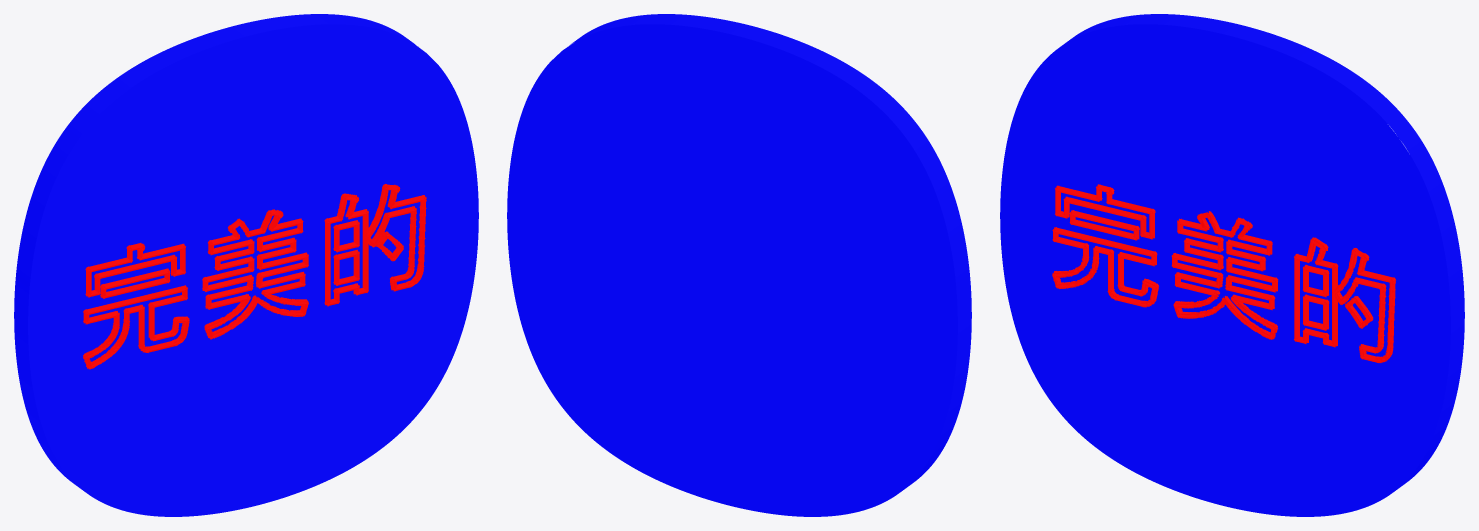
The picture shows the model from 3 angles, left to right: view 1: azimuth 30°, elevation 25°; view 2: azimuth 150°, elevation 25°; view 3: azimuth 330°, elevation 25°; orthographic projection.
Size of the model in its own units: 0.9354 by 0.9354 by 0.061.
